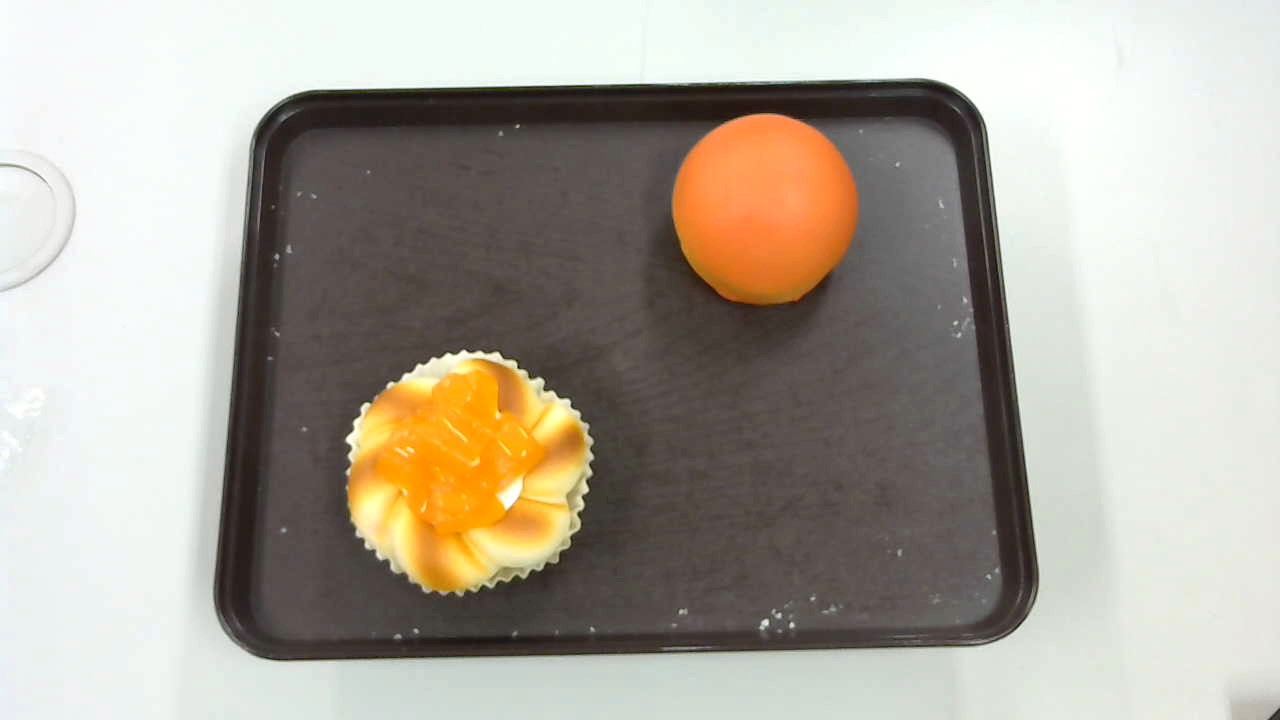bun: (671, 113, 861, 305)
mango tart: (344, 350, 594, 597)
